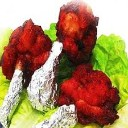chicken_lollipop: (38, 1, 94, 100), (2, 18, 47, 128), (49, 64, 118, 128)
